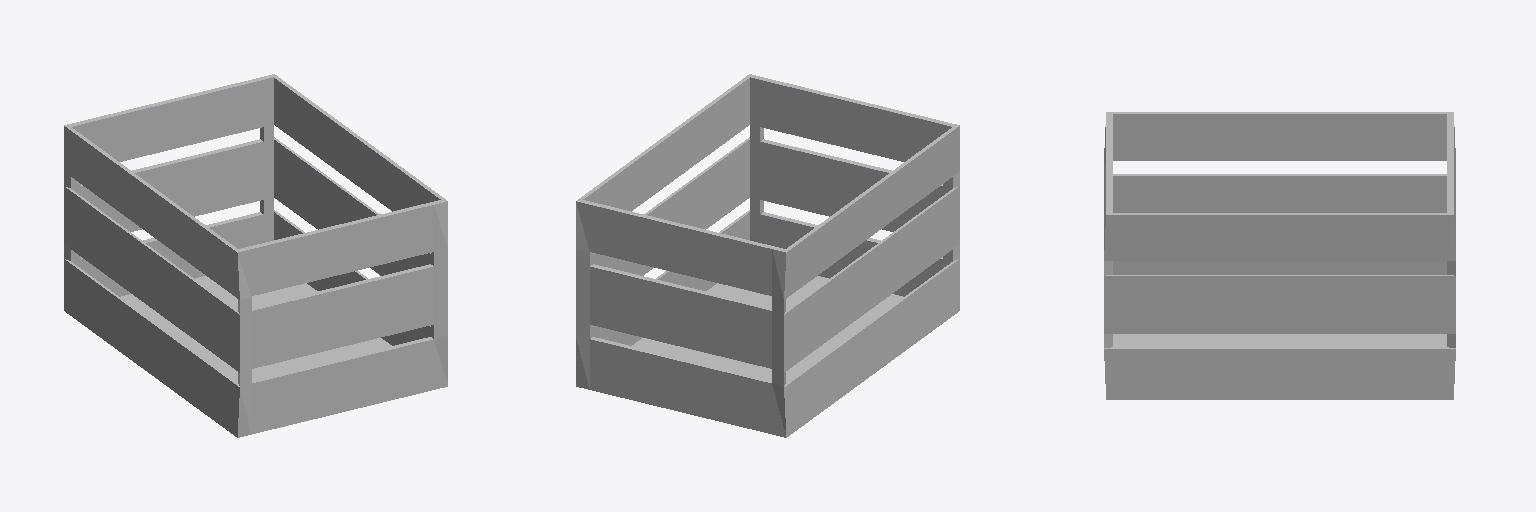
Rendered from POEBasket.obj.
3 views of the same model, side by side, from view 1: azimuth 30°, elevation 25°; view 2: azimuth 150°, elevation 25°; view 3: azimuth 270°, elevation 25° (orthographic).
Visible parts, largest first — view 1: Cube.002; view 2: Cube.002; view 3: Cube.002.
Part boxes in pixels (bbox=[...]): Cube.002: bbox=[64, 74, 447, 437]; Cube.002: bbox=[576, 74, 959, 437]; Cube.002: bbox=[1104, 112, 1455, 399].
Bounding box in the file's own units: 1.46 × 1.22 × 2.11.